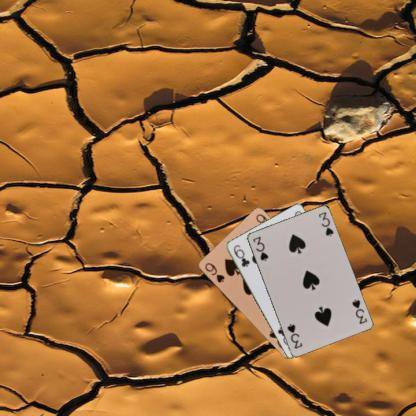3s: (349, 296, 368, 326), (250, 234, 269, 262)
6c: (230, 242, 250, 268)
9s: (202, 260, 226, 284)
